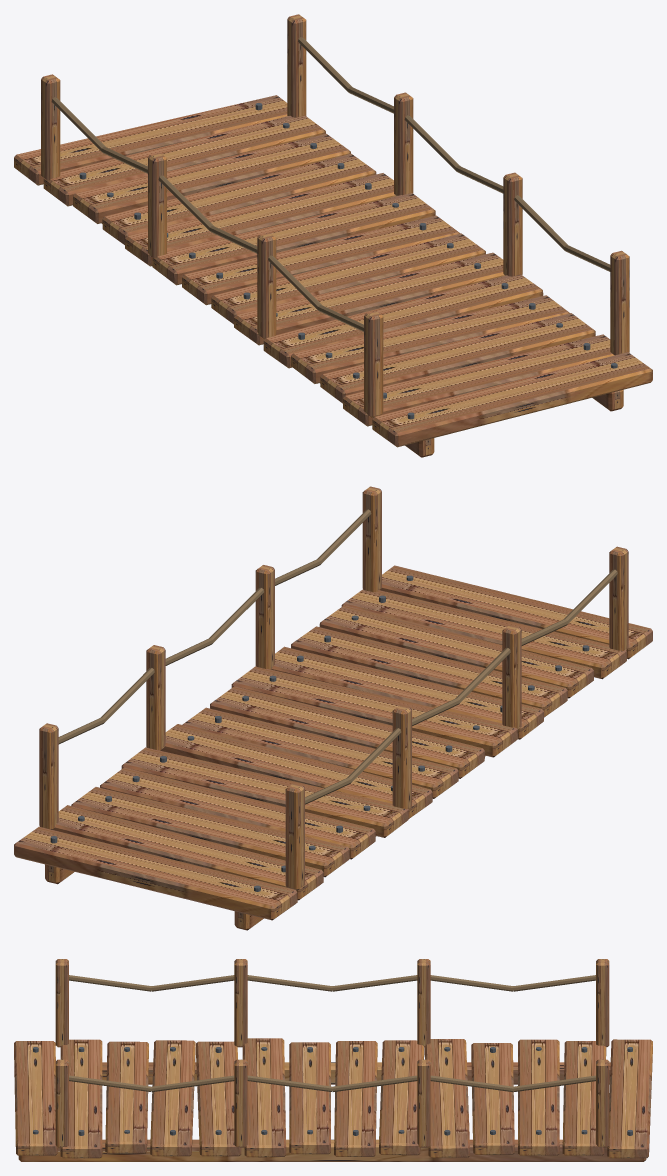
The model's file is bridge_wood.glb.
3 views of the same model, one above another, from view 1: azimuth 30°, elevation 25°; view 2: azimuth 150°, elevation 25°; view 3: azimuth 270°, elevation 25° (orthographic). The views are drawn at different scales.
Parts seen in each view (by area): view 1: landmark_bridge_wood; view 2: landmark_bridge_wood; view 3: landmark_bridge_wood.
Part boxes in pixels (x1,y1,x2,y2): landmark_bridge_wood: [14, 14, 652, 457]; landmark_bridge_wood: [14, 486, 652, 930]; landmark_bridge_wood: [14, 959, 652, 1161].
Size of the model in its own units: 3.06 by 1.46 by 7.69.
Materials: 3 (1 with a texture image).
